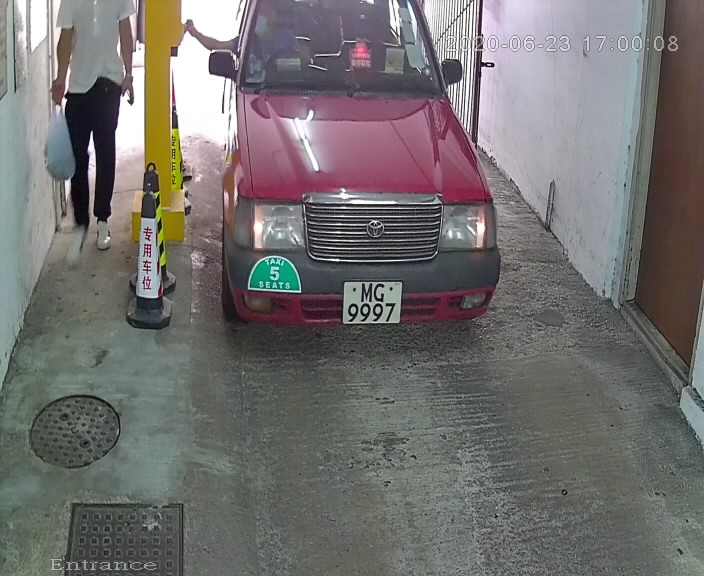taxi: (198, 2, 515, 354)
taxi_mark: (243, 253, 309, 300)
